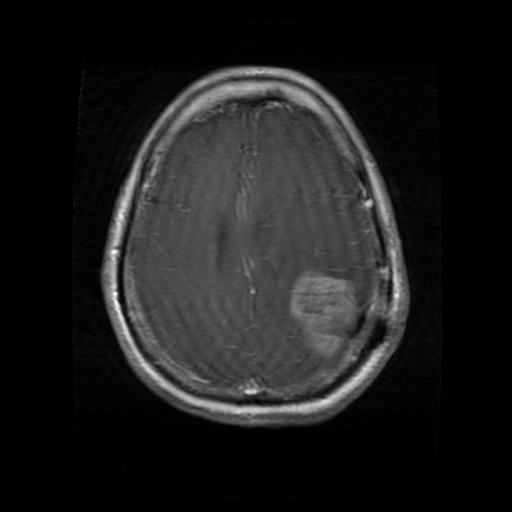Tumour-Glioma: (282, 270, 357, 353)
